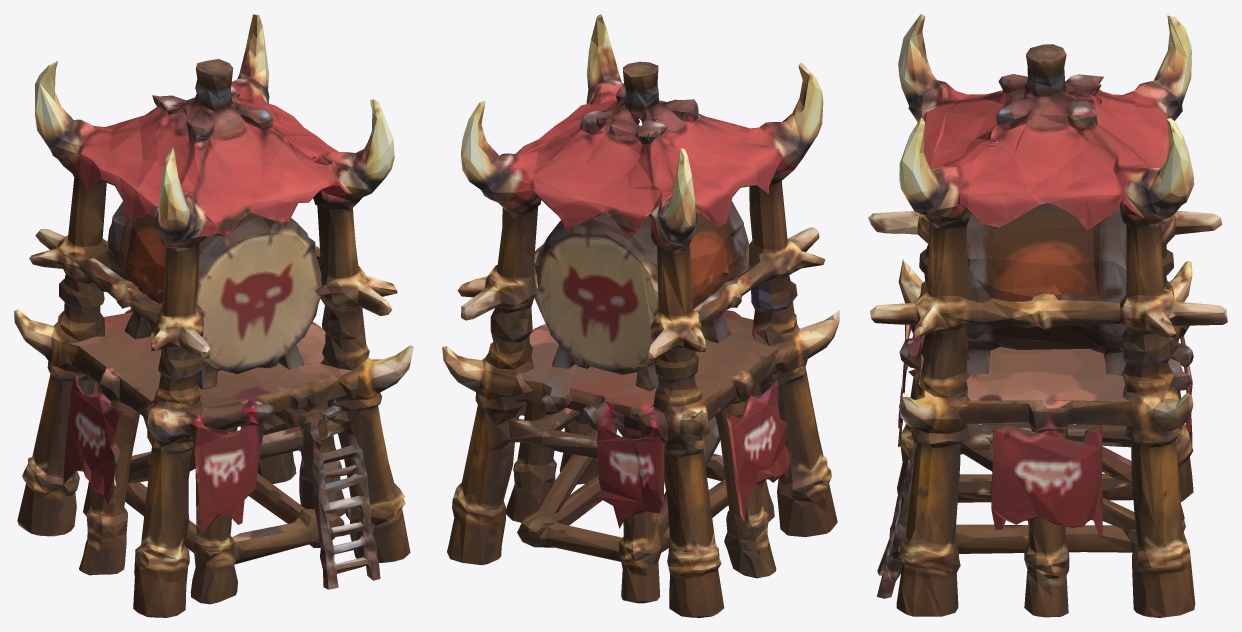
Rendered from orc_drum_tower_1117.glb.
3 views of the same model, side by side, from view 1: azimuth 30°, elevation 25°; view 2: azimuth 150°, elevation 25°; view 3: azimuth 270°, elevation 25° (orthographic). The views are drawn at different scales.
Parts seen in each view (by area): view 1: tmp199r9un8.ply; view 2: tmp199r9un8.ply; view 3: tmp199r9un8.ply.
Boxes of the visible parts, <box> form: tmp199r9un8.ply: <box>14,14,413,617</box>; tmp199r9un8.ply: <box>442,14,839,617</box>; tmp199r9un8.ply: <box>868,14,1227,617</box>.
Bounding box in the file's own units: 1.18 × 1.99 × 1.29.
Materials: 1 (1 with a texture image).
